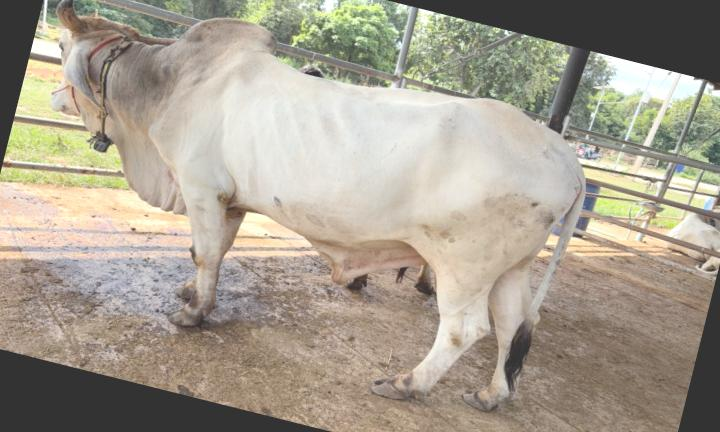Brahman: (57, 0, 585, 410)
